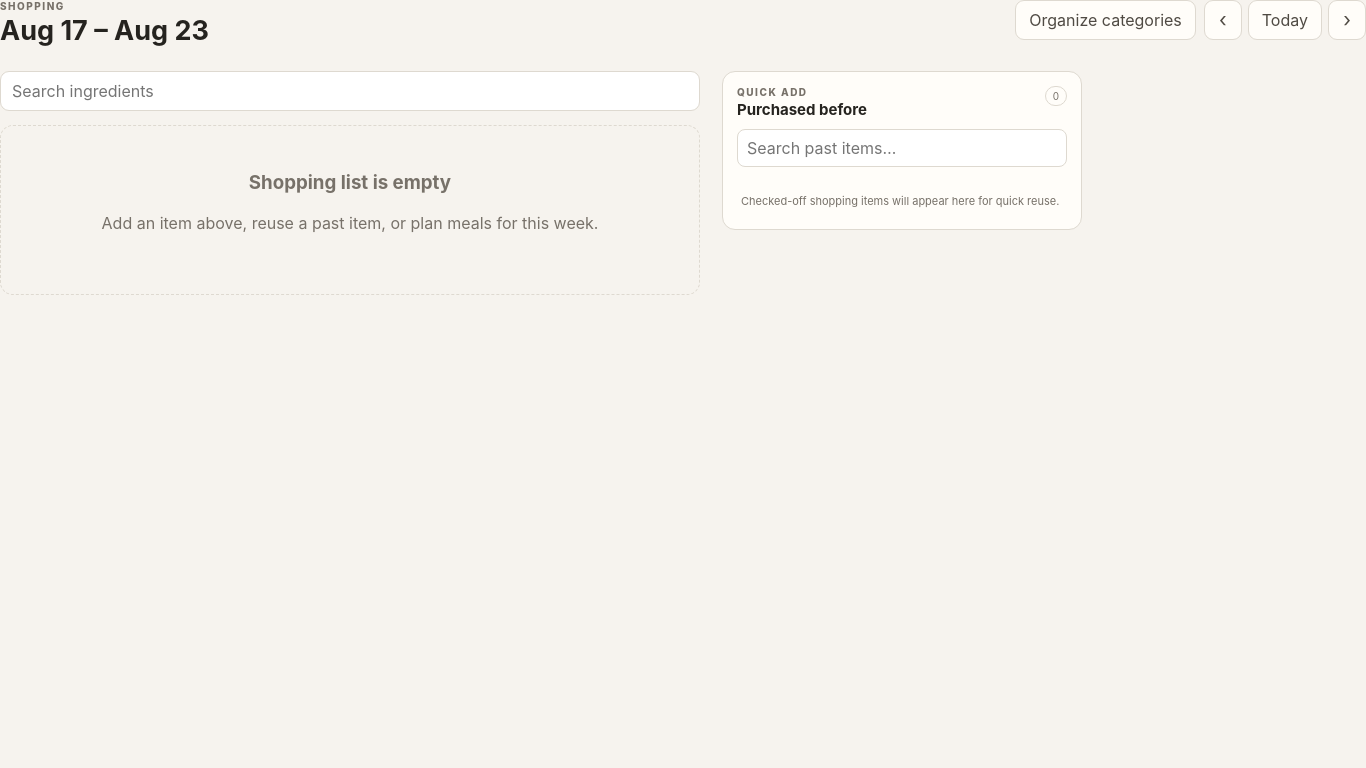
Scenario: ShoppingView unified ingredient entry › creates a reusable ingredient with the shared editor and adds it to shopping
This screenshot has width=1366, height=768.
In the dropdown named "Add shopping list item": (350, 91) [0,71,700,111], type "Shallot"
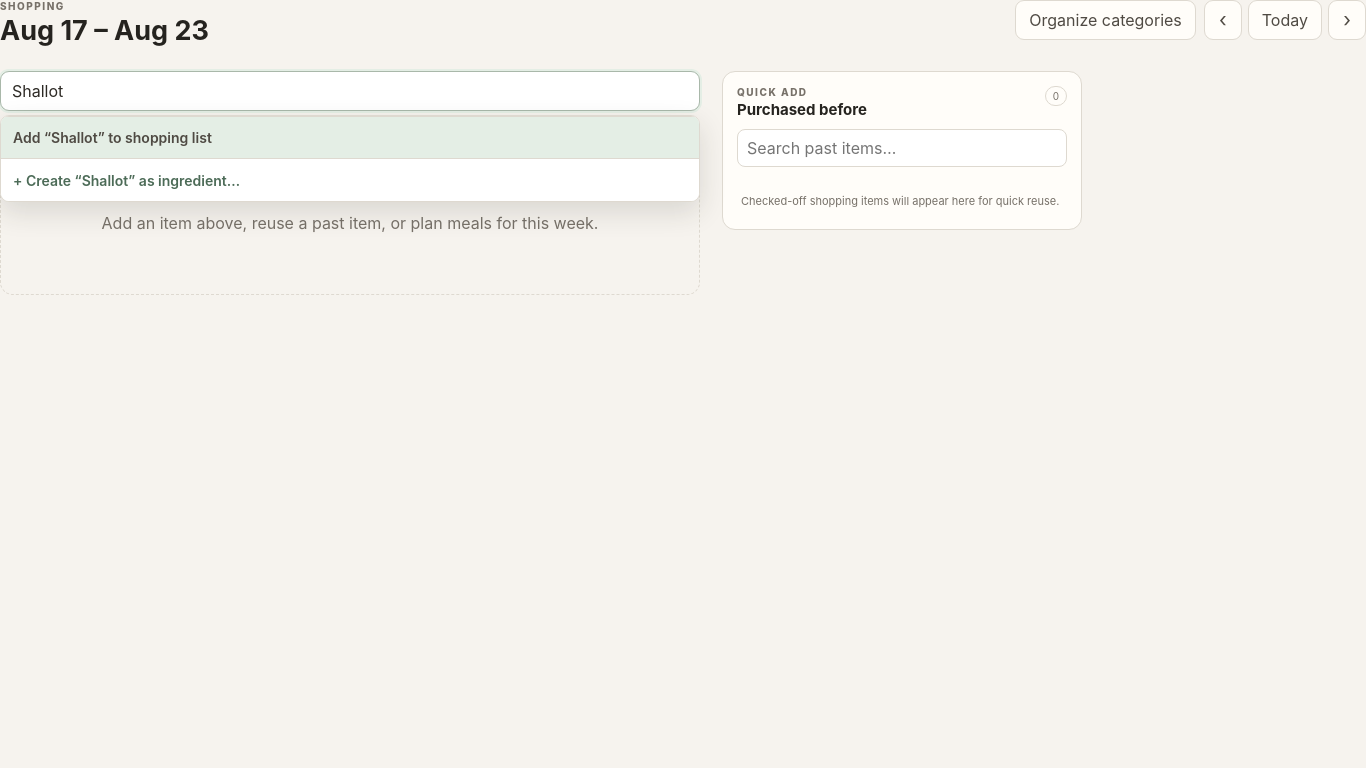
Click the option "+ Create “Shallot” as ingredient…": click(133, 180) [1,159,699,201]
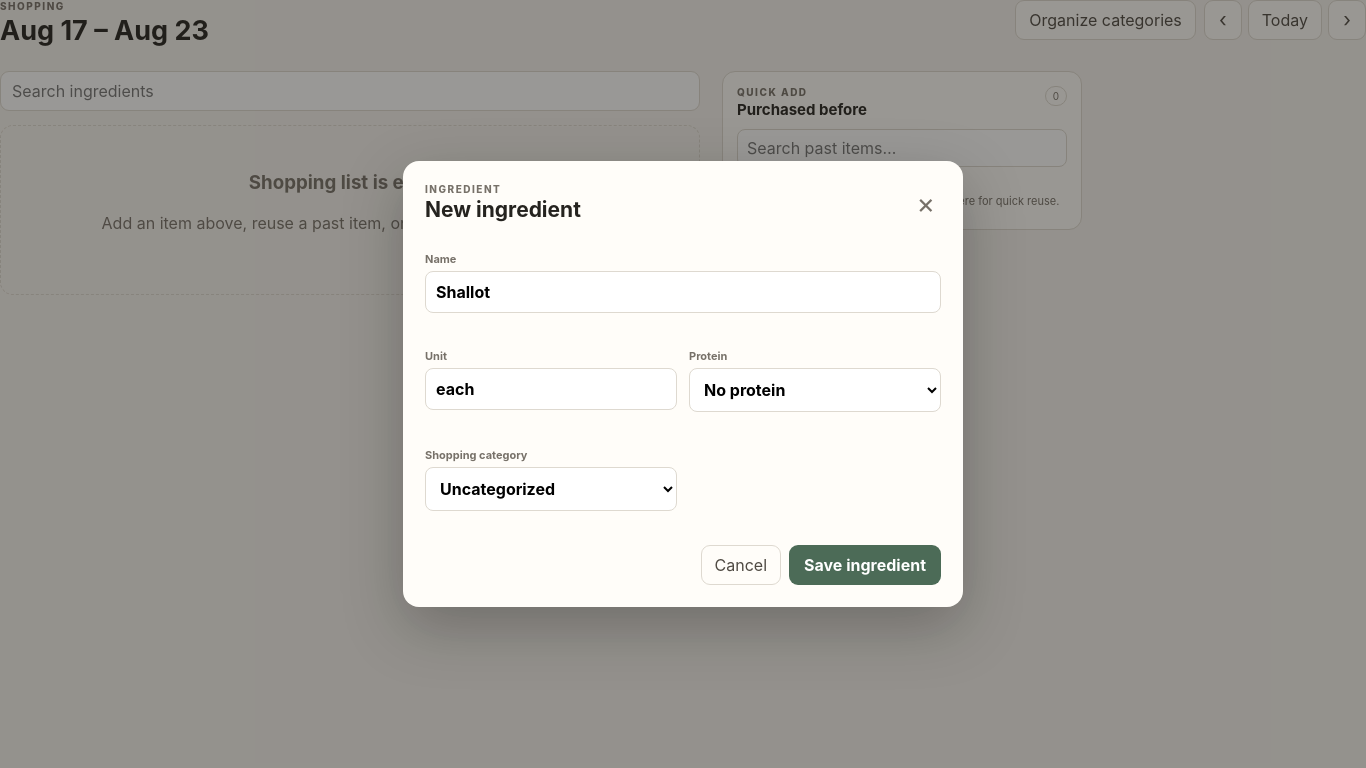
Check: the field labelled "Name" holds "Shallot", box [425,271,941,313]
Select "Produce" in the dropdown labelled "Shopping category": (551, 489) [425,467,677,511]
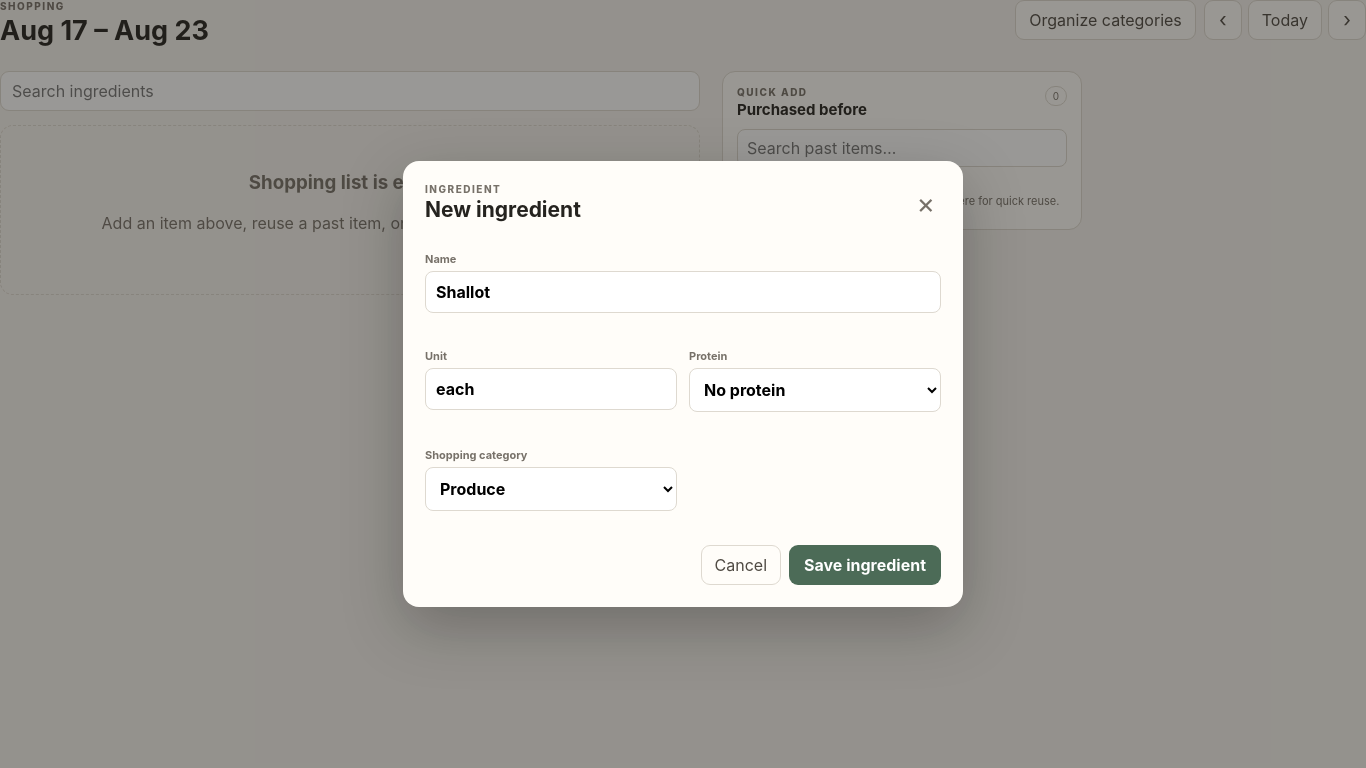
Click the button "Save ingredient": click(865, 565) [789,545,941,585]
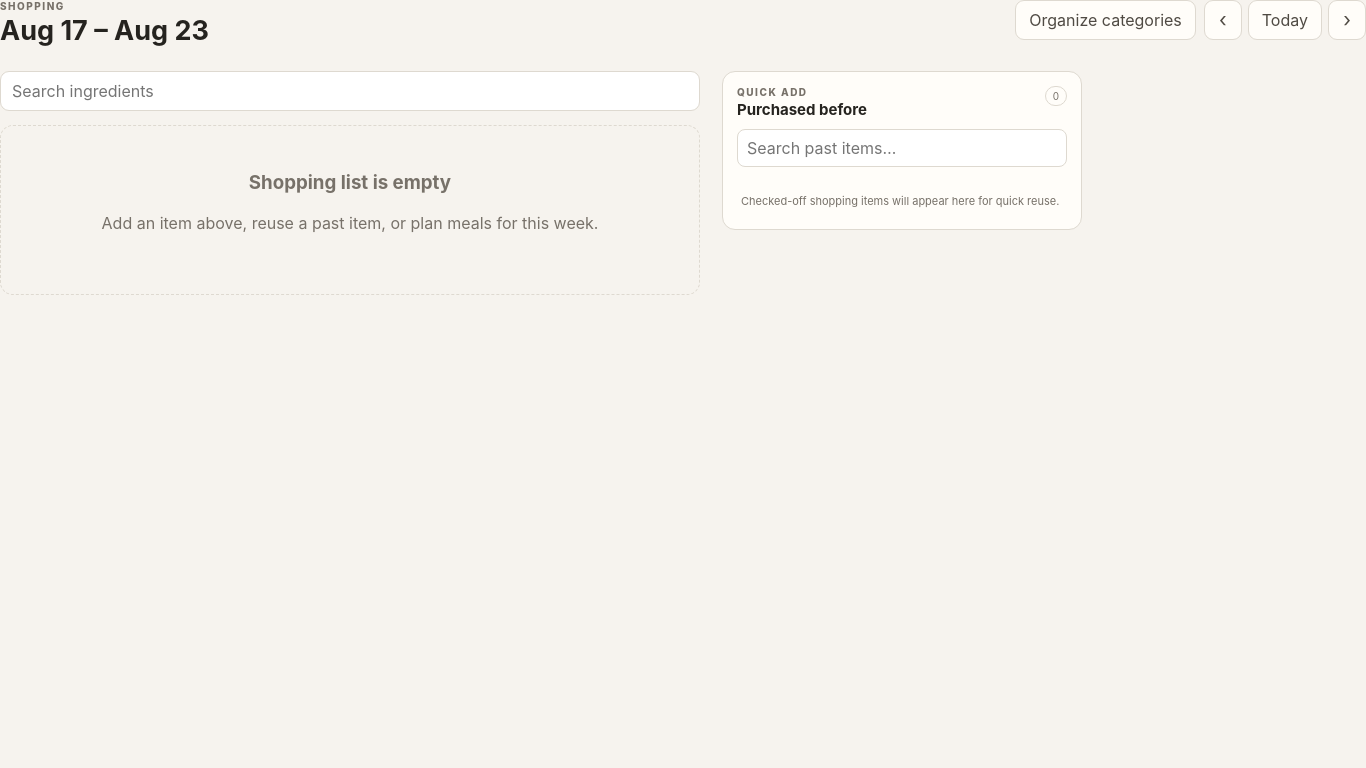
Check: the heading "New ingredient" is gone
